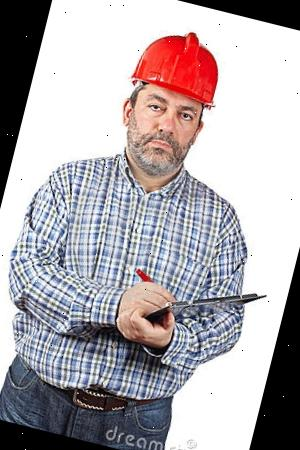helmet: (122, 20, 234, 117)
no_wear: (5, 154, 231, 406)
